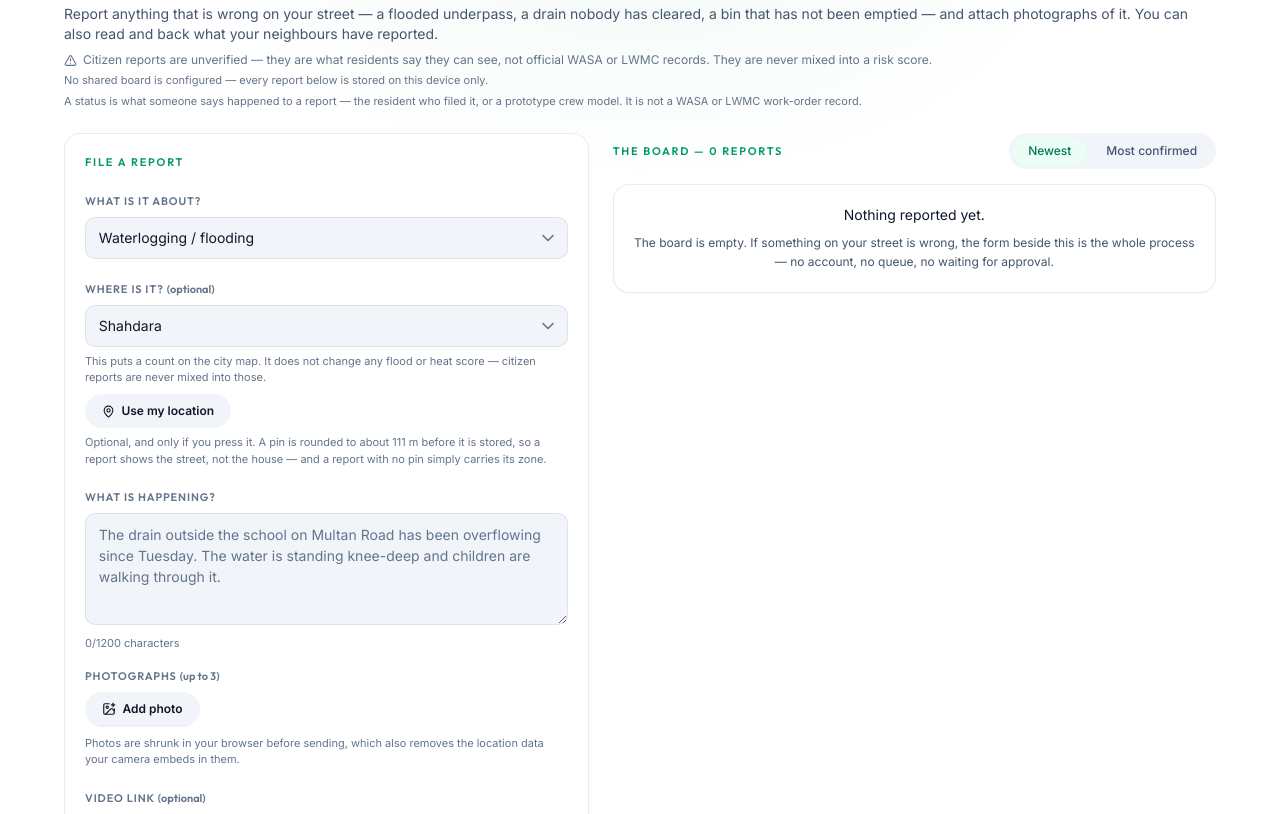
Test: ComplaintsView — filing a report › refuses a video link that is not on the accepted platforms
Replace the text in the text box labelled "What is happening?" with "The drain is blocked and overflowing." at (326, 569), box [85,513,568,625]
(page scrolled)
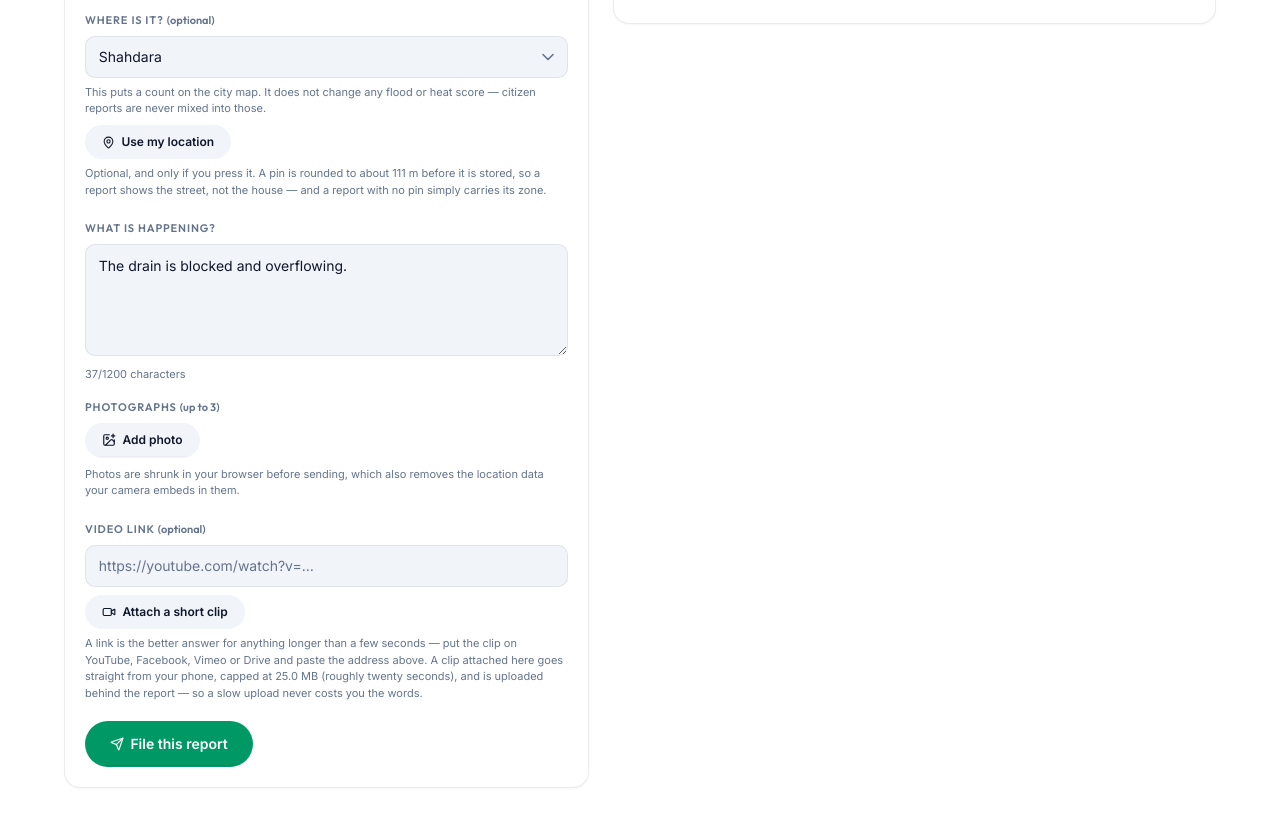
Type "javascript:alert(1)" into the field labelled "Video link (optional)" at (326, 566), box [85,545,568,587]
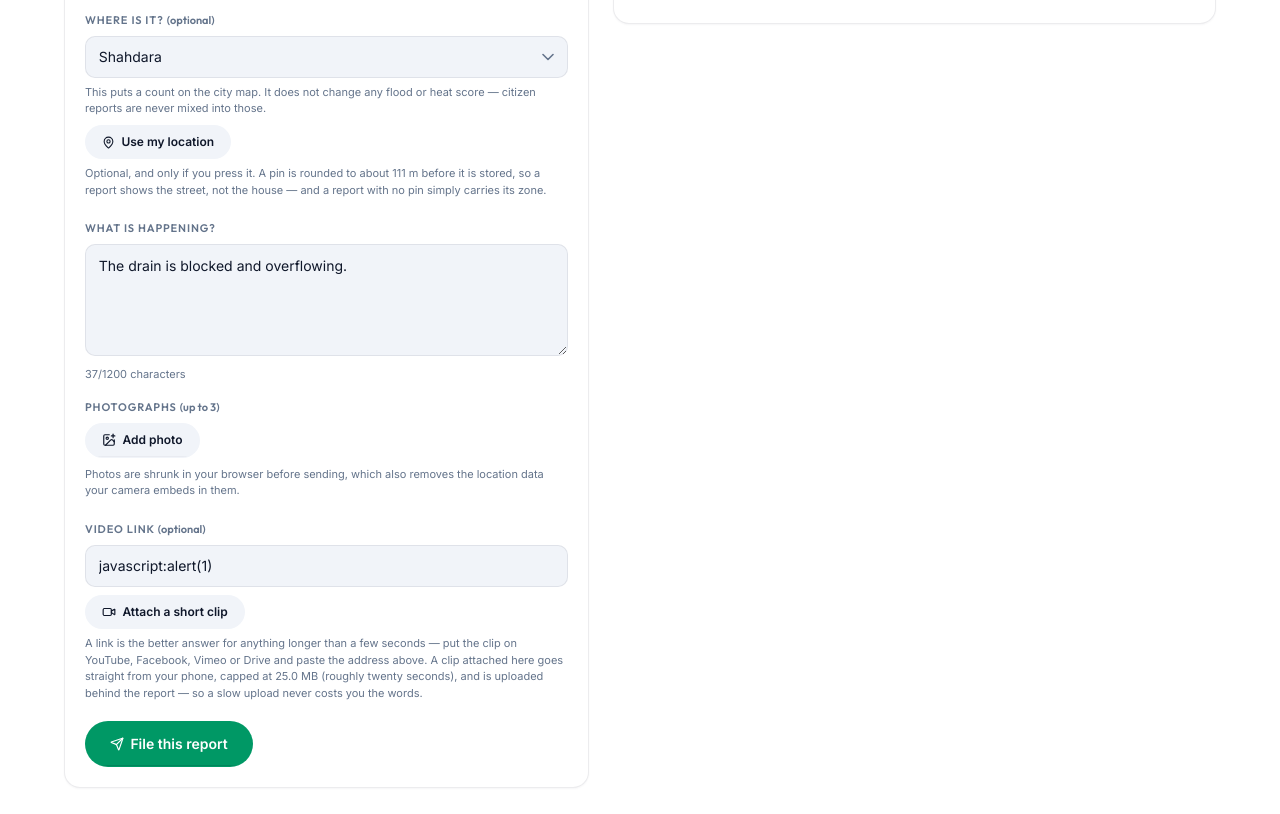
Click the button "File this report" at (169, 744), box [85,721,253,767]
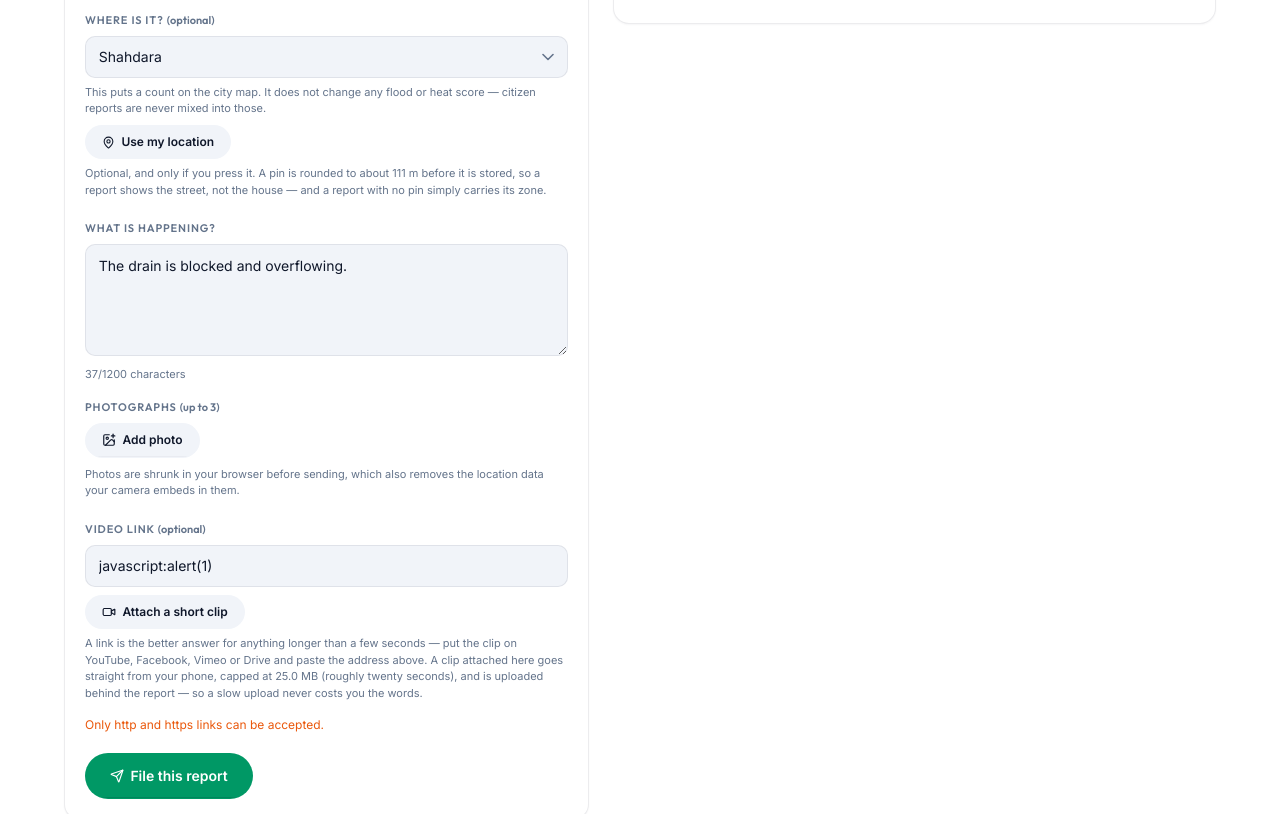
Expected: the message shows "http and https", [85,717,324,732]
